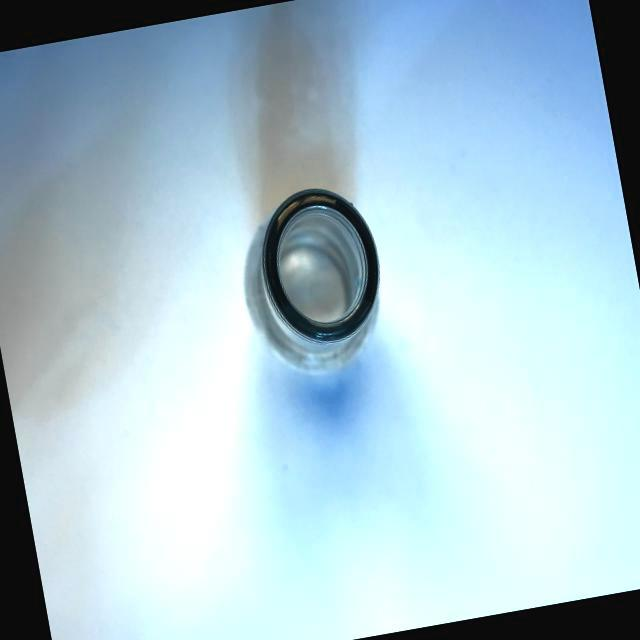metal: (214, 165, 414, 402)
